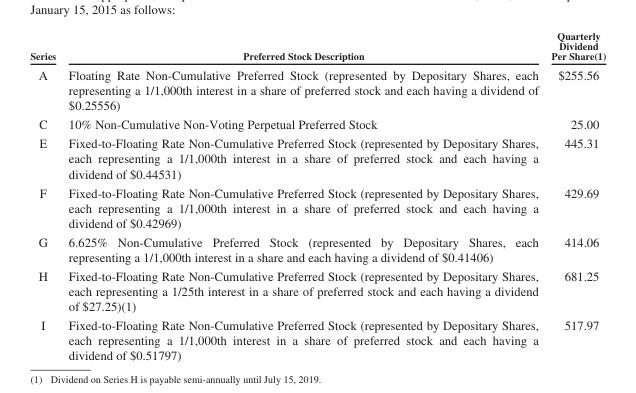table: (29, 29, 605, 362)
table column: (61, 29, 544, 362), (544, 29, 605, 362), (29, 29, 61, 362)
table column header: (29, 29, 605, 64)
table row: (29, 64, 605, 114), (29, 182, 605, 232), (29, 133, 605, 182), (29, 266, 605, 315), (29, 315, 605, 362), (29, 29, 605, 64), (29, 232, 605, 266), (29, 114, 605, 133)
